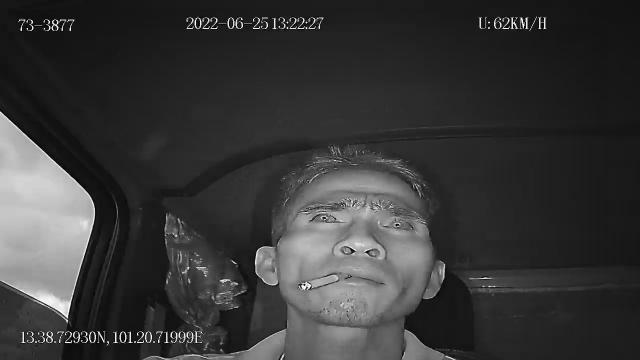SafeDriving: (372, 213, 421, 237), (302, 206, 346, 228)
Smoking: (298, 272, 350, 292)
